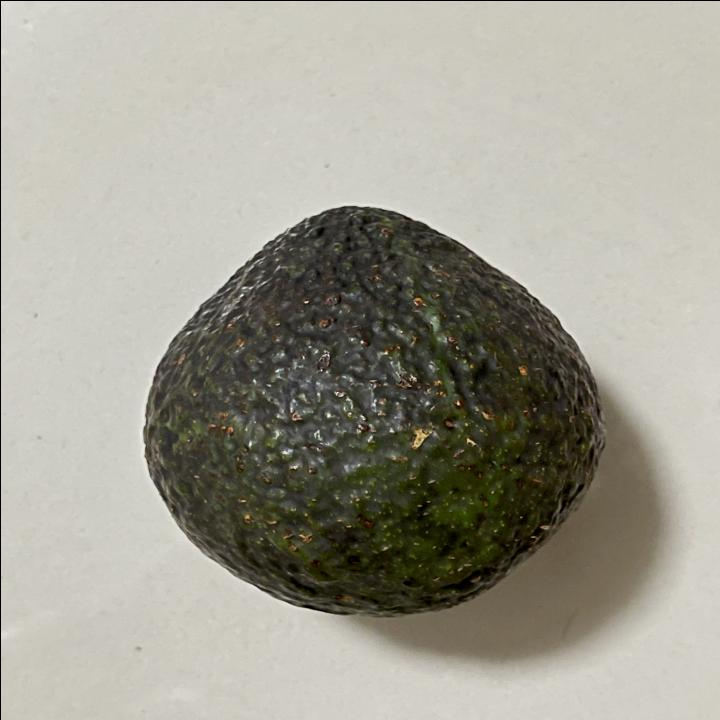Level1: (130, 190, 615, 626)
